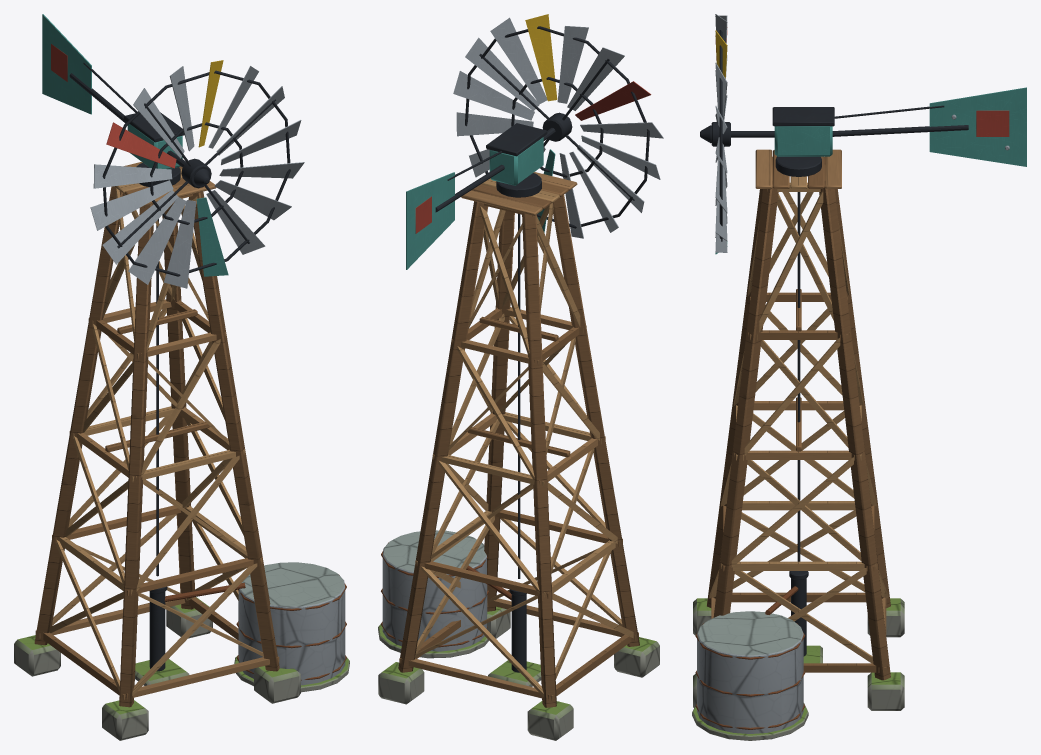
The model's file is wind_pump.glb.
3 renders of one model, left to right at view 1: azimuth 30°, elevation 25°; view 2: azimuth 150°, elevation 25°; view 3: azimuth 270°, elevation 25°, orthographic.
Parts seen in each view (by area): view 1: wind_pump; view 2: wind_pump; view 3: wind_pump.
Part boxes in pixels (box(x1,y1,x2,y2)): wind_pump: box(14, 14, 349, 740); wind_pump: box(378, 14, 663, 740); wind_pump: box(692, 14, 1026, 740).
Size of the model in its own units: 3.15 by 7.32 by 3.45.
23 materials, 23 textured.
